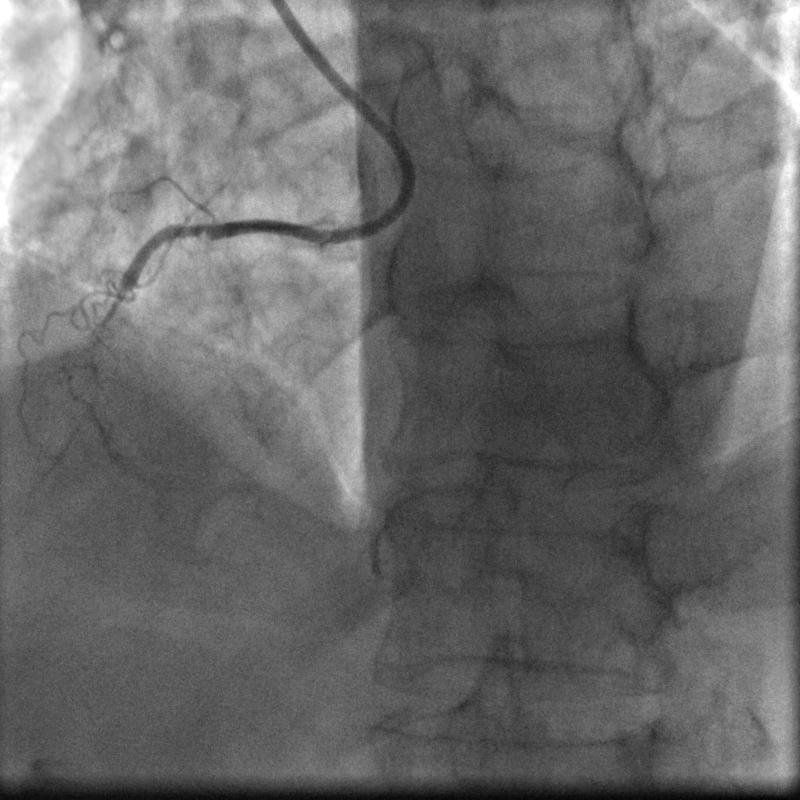Stenosis: (109, 270, 137, 328)
